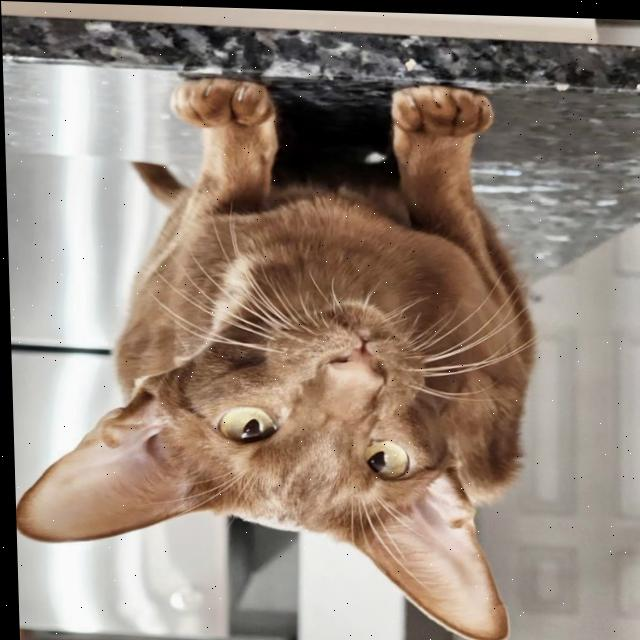Oriental: (2, 67, 547, 640)
